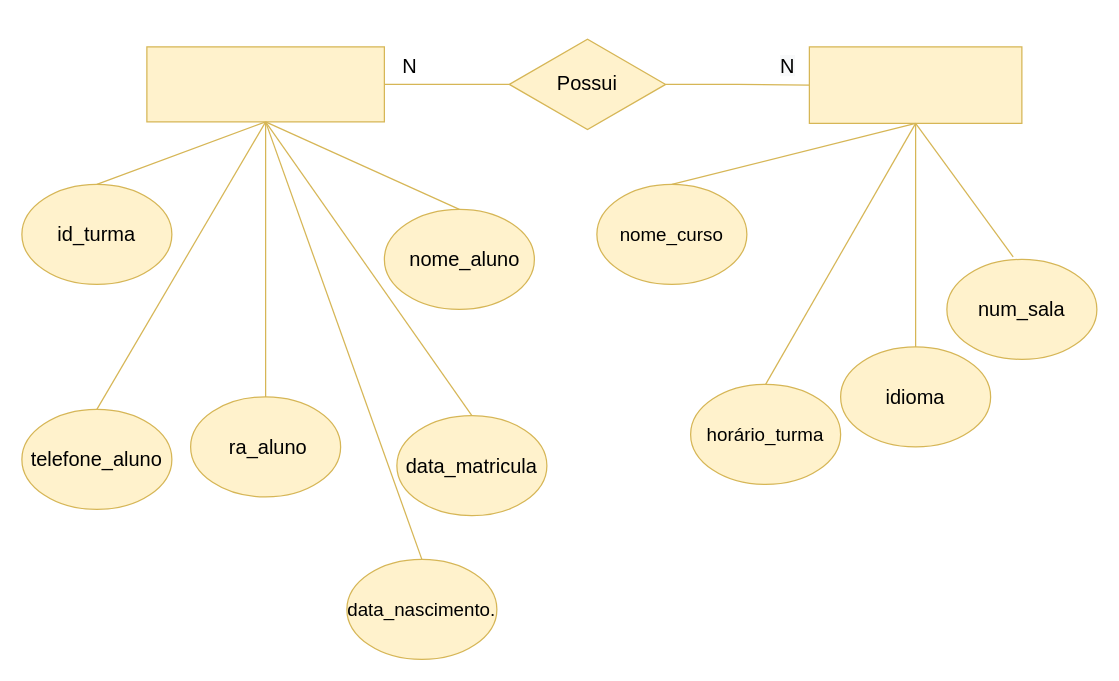
Image size: 1119x681. Some labels were removed from this diagram. The shapes that lost their labels are listed below. From the top down, each one's box as (x1, y1, x2, y2) in pixels, then its label:
(146, 46, 384, 122): Alunos
(808, 46, 1022, 123): Cursos
